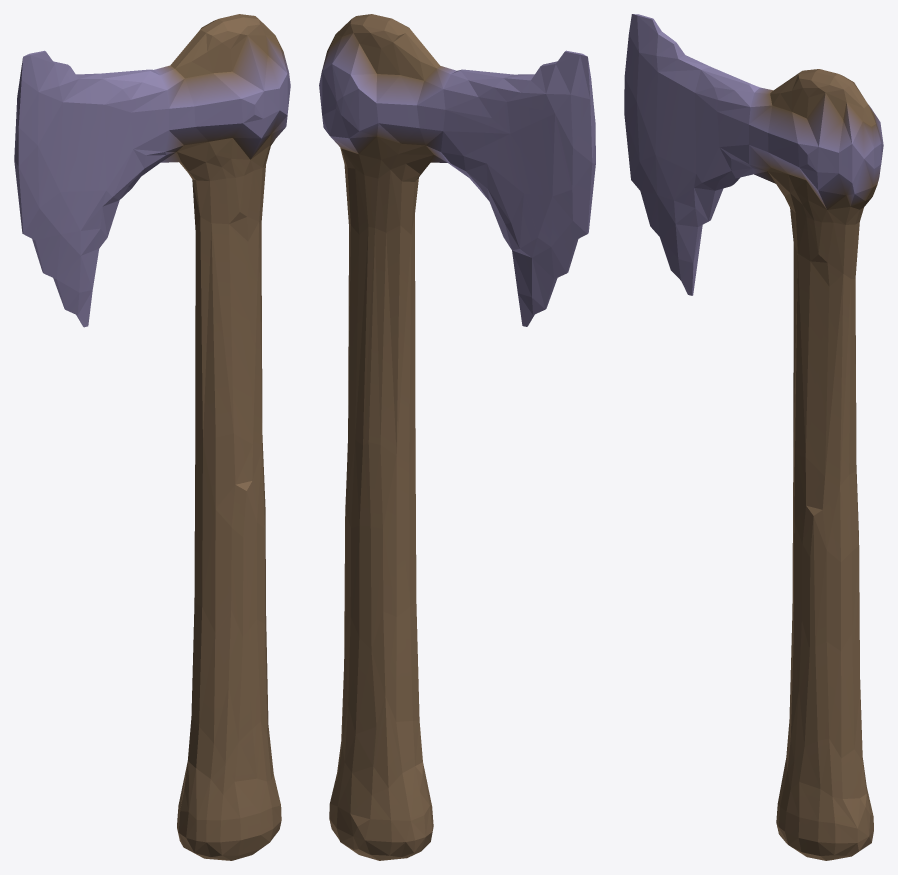
Rendered from axe_starfall.glb.
3 renders of one model, left to right at view 1: azimuth 30°, elevation 25°; view 2: azimuth 150°, elevation 25°; view 3: azimuth 330°, elevation 25°, orthographic. The views are drawn at different scales.
Visible parts, largest first — view 1: world; view 2: world; view 3: world.
Part boxes in pixels (bbox=[...]): world: bbox=[14, 14, 290, 860]; world: bbox=[319, 14, 595, 860]; world: bbox=[624, 14, 883, 860].
Bounding box in the file's own units: 0.3321 × 1 × 0.0942.
